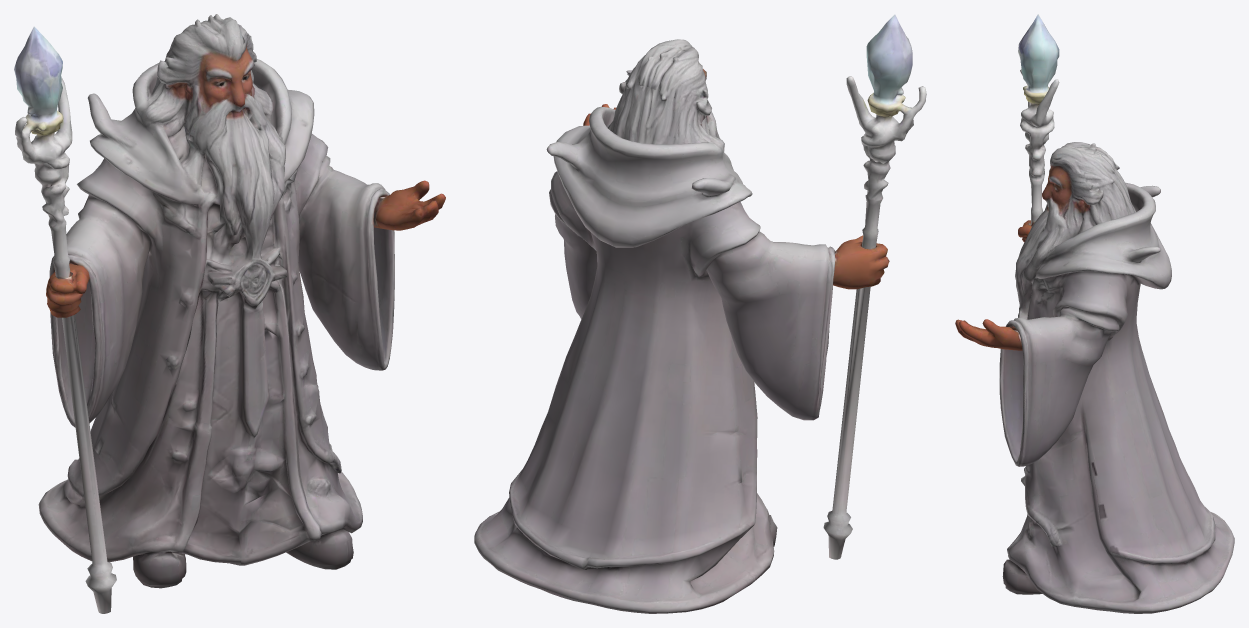
The model's file is white-wizard.glb.
3 views of the same model, side by side, from view 1: azimuth 30°, elevation 25°; view 2: azimuth 150°, elevation 25°; view 3: azimuth 270°, elevation 25° (orthographic). The views are drawn at different scales.
Parts seen in each view (by area): view 1: tripo_node_a4e637bb-5eb2-468d-b0be-5eab62091f9d; view 2: tripo_node_a4e637bb-5eb2-468d-b0be-5eab62091f9d; view 3: tripo_node_a4e637bb-5eb2-468d-b0be-5eab62091f9d.
Boxes of the visible parts, box(x1,y1,x2,y2) form: tripo_node_a4e637bb-5eb2-468d-b0be-5eab62091f9d: box(14, 14, 445, 613); tripo_node_a4e637bb-5eb2-468d-b0be-5eab62091f9d: box(474, 14, 926, 613); tripo_node_a4e637bb-5eb2-468d-b0be-5eab62091f9d: box(955, 14, 1234, 613).
Size of the model in its own units: 0.6783 by 0.9765 by 0.5293.
Materials: 1 (1 with a texture image).
